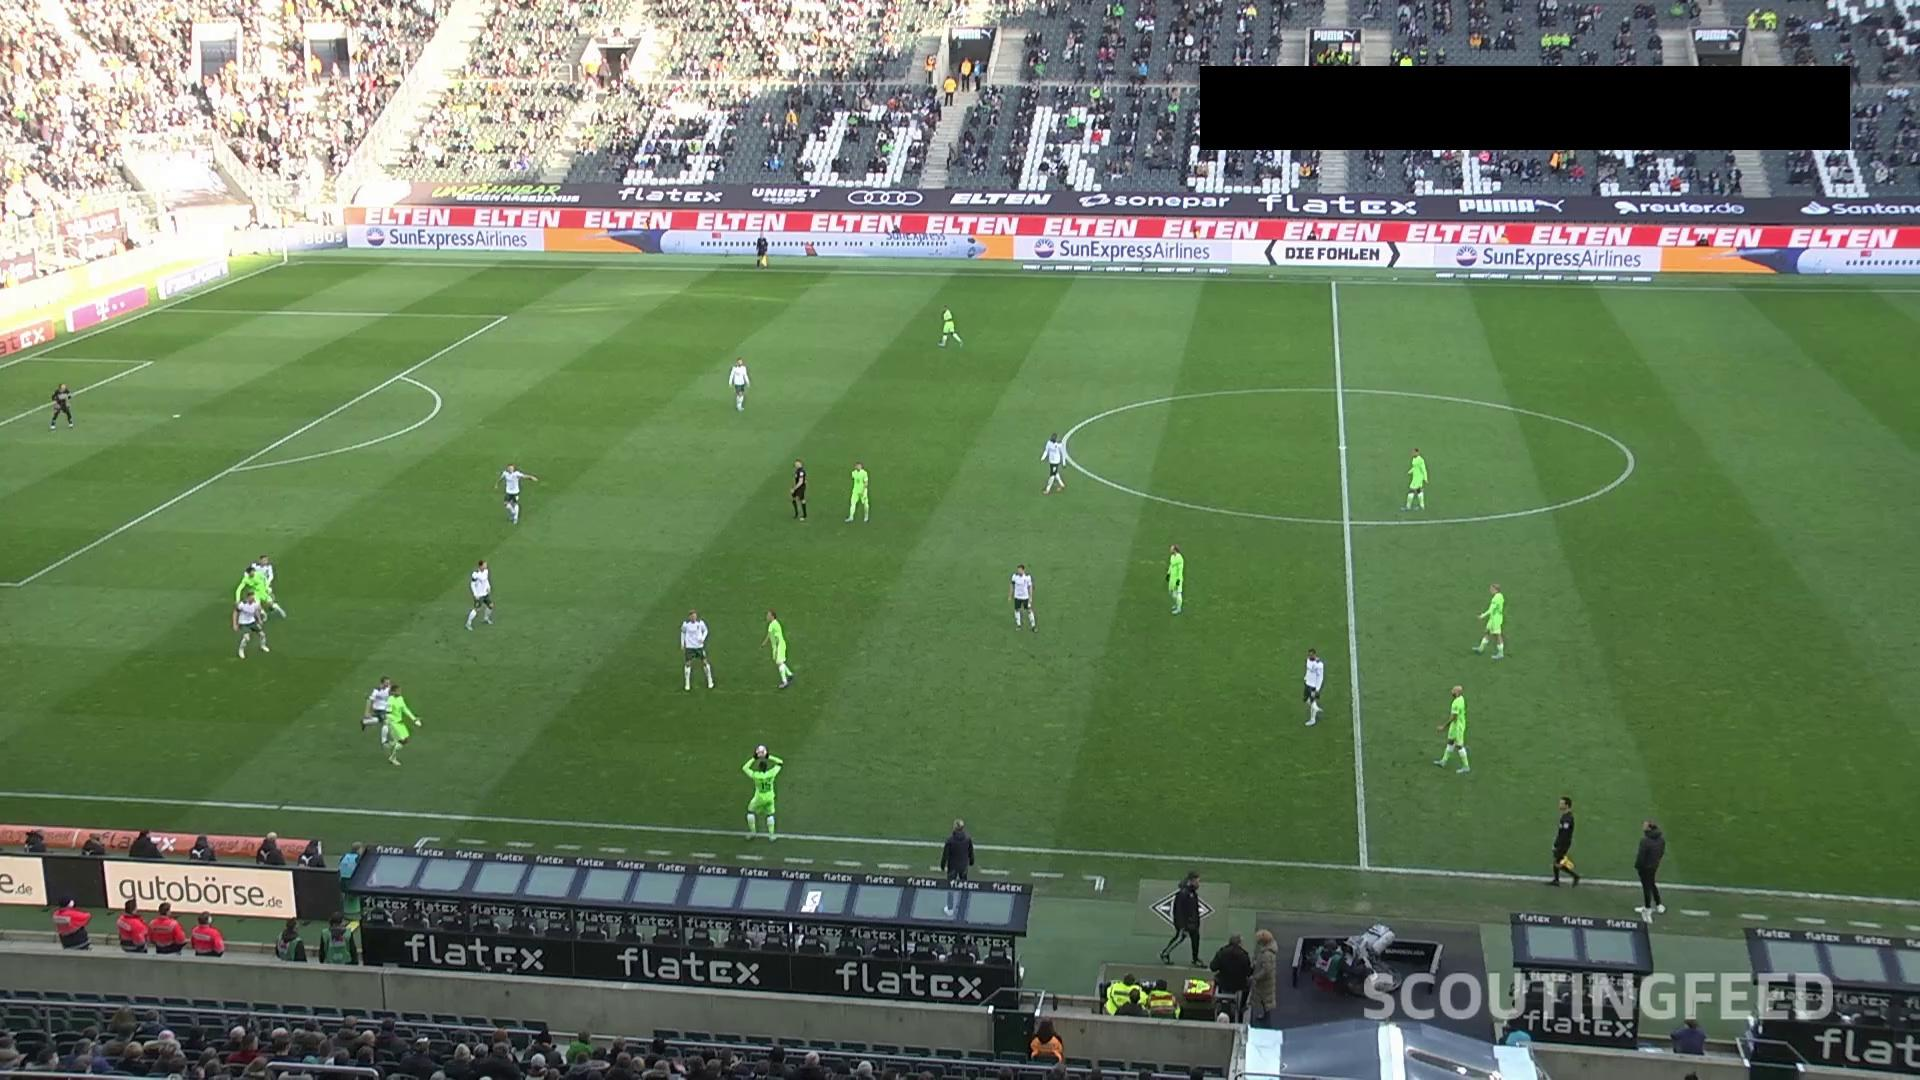Location-of-ball: (745, 732, 774, 770)
